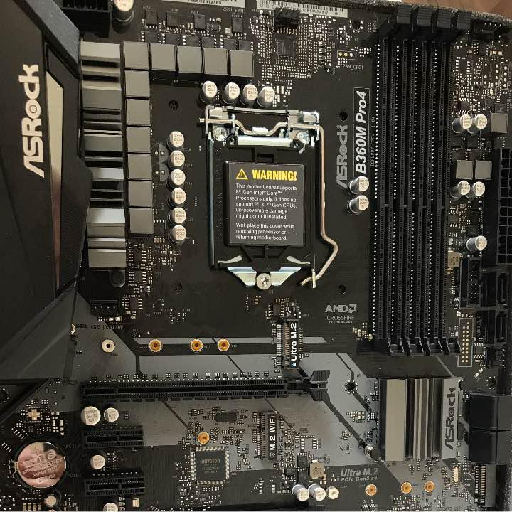CPU: (206, 137, 318, 291)
GPU: (81, 370, 331, 404)
MOTHERBOARD: (2, 2, 511, 510)
RAM: (378, 6, 463, 359)
SSD: (271, 319, 303, 371), (251, 411, 282, 463)
